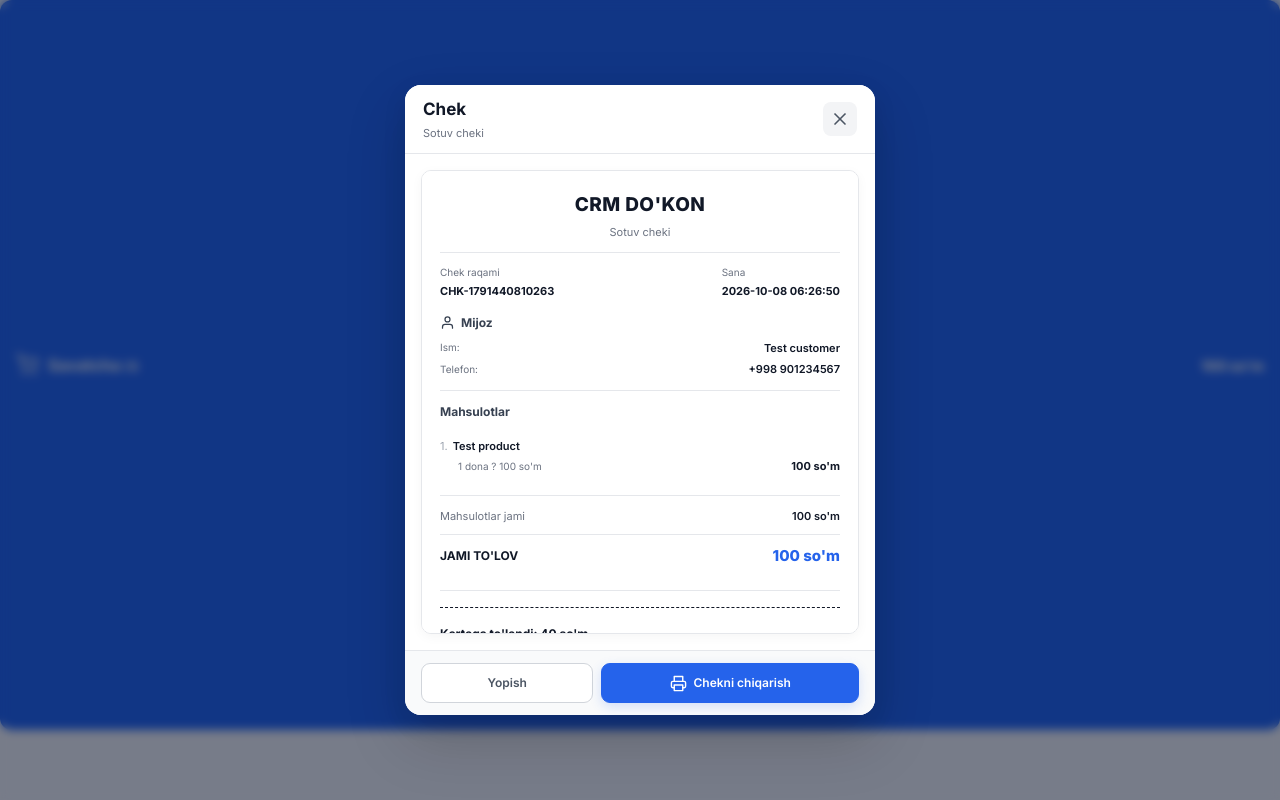
it: partial card checkout stores the receiving card, correct debt, and printable receipt
Earlier steps of the test are not shown.
Expected: the element with id "receipt-print" shows "Kartaga to'landi: 40", [421,170,859,634]
What coordinates should you click on to do the following:
click the button with class "receipt-action-close"
I would click on:
 (507, 683)
Its box is [421,663,593,703].
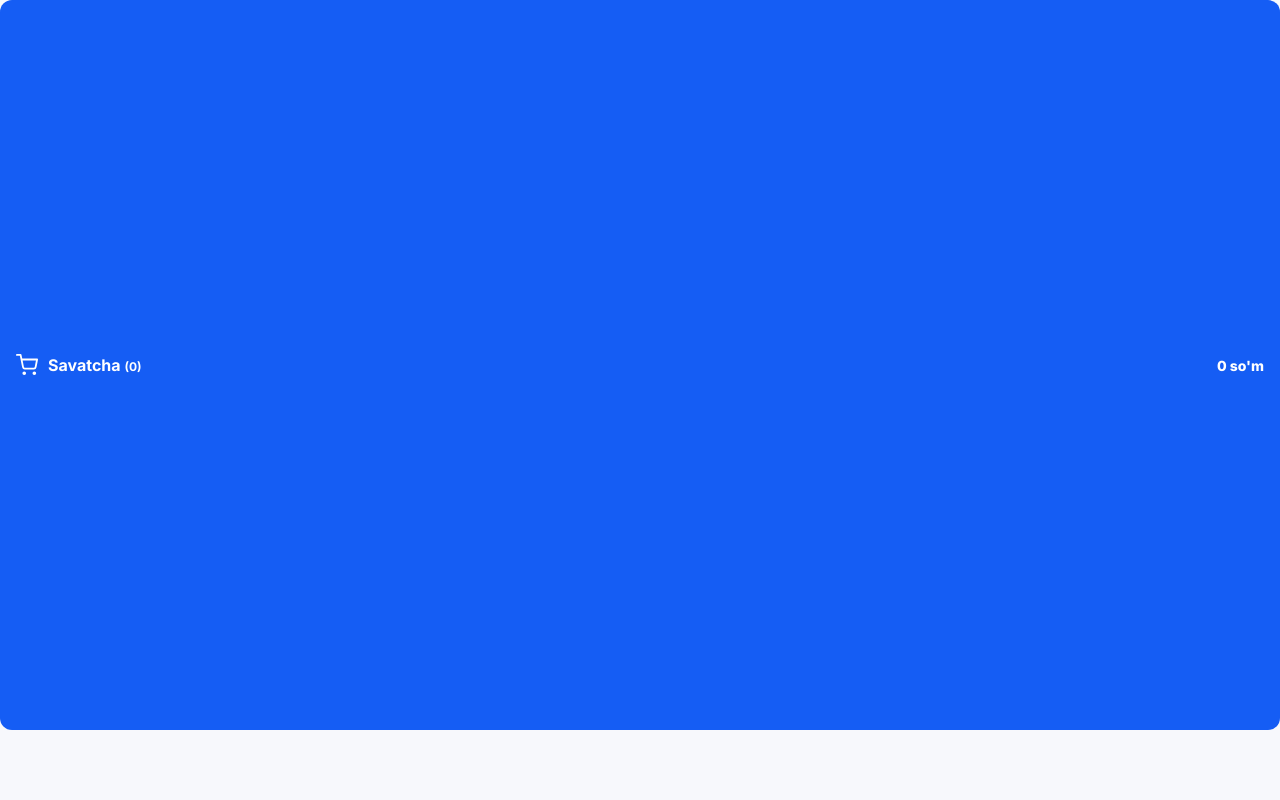
Expected: the element with id "receipt-print" is gone
